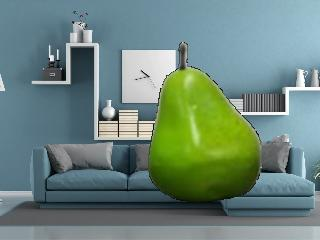pear: (148, 43, 263, 204)
